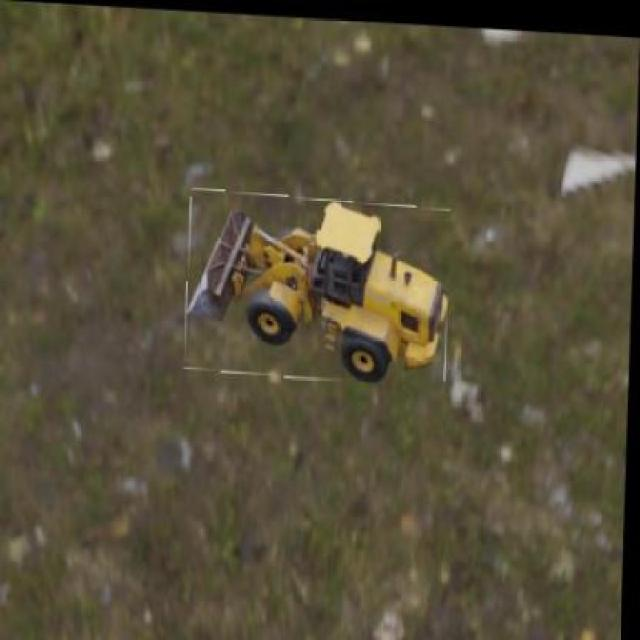buldozerpayloadergrader: (186, 192, 449, 391)
